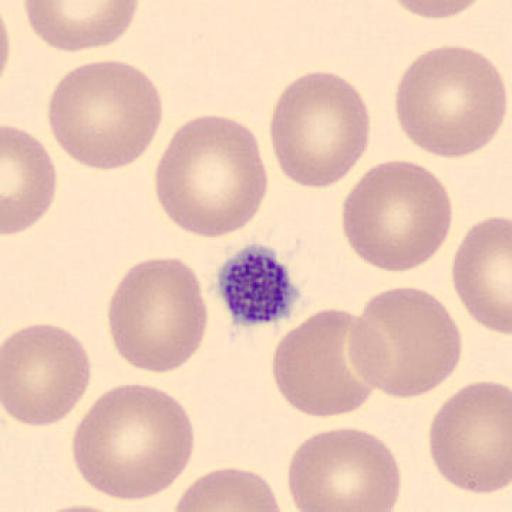Platelet: (216, 241, 304, 329)
RBC: (71, 381, 196, 502), (153, 113, 269, 241), (45, 58, 165, 172), (392, 44, 508, 159), (350, 282, 464, 399), (340, 158, 454, 274), (268, 69, 372, 191), (106, 254, 208, 374), (270, 307, 376, 419), (286, 424, 404, 512), (426, 380, 512, 495), (2, 322, 92, 428), (451, 214, 512, 336), (22, 0, 142, 54), (2, 124, 58, 236), (171, 467, 284, 512), (389, 0, 489, 20), (32, 500, 139, 512), (0, 4, 11, 86), (35, 503, 132, 512), (0, 0, 10, 59)
